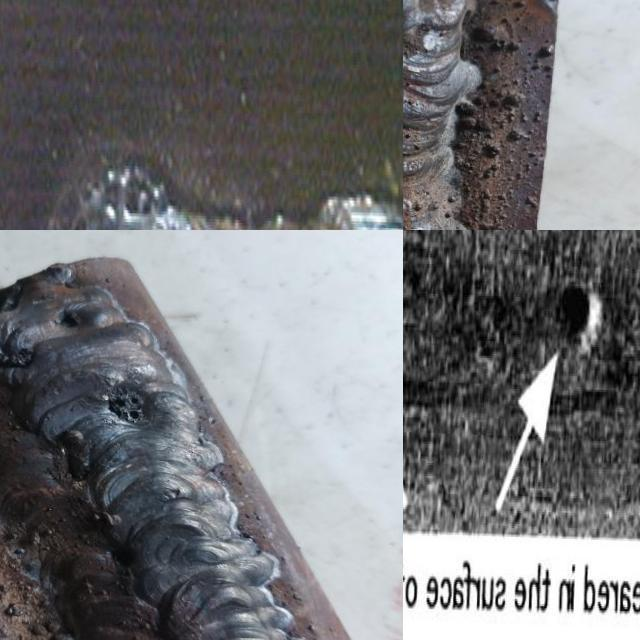defect: (69, 170, 167, 230), (548, 254, 610, 345), (104, 386, 155, 424), (0, 343, 38, 368), (48, 308, 83, 330), (110, 545, 139, 568)
